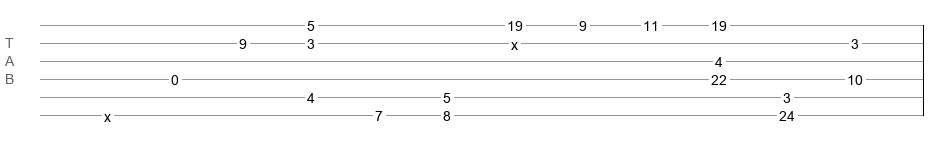0: (171, 72, 179, 82)
10: (847, 72, 863, 82)
11: (643, 18, 659, 28)
19: (507, 18, 523, 28), (711, 18, 727, 28)
22: (711, 72, 727, 82)
24: (779, 108, 795, 118)
3: (307, 36, 315, 46), (783, 90, 791, 100), (851, 36, 859, 46)
4: (307, 90, 315, 100), (715, 54, 723, 64)
5: (307, 18, 315, 28), (443, 90, 451, 100)
7: (375, 108, 383, 118)
8: (443, 108, 451, 118)
9: (239, 36, 247, 46), (579, 18, 587, 28)
x: (104, 109, 111, 117), (511, 37, 518, 45)
